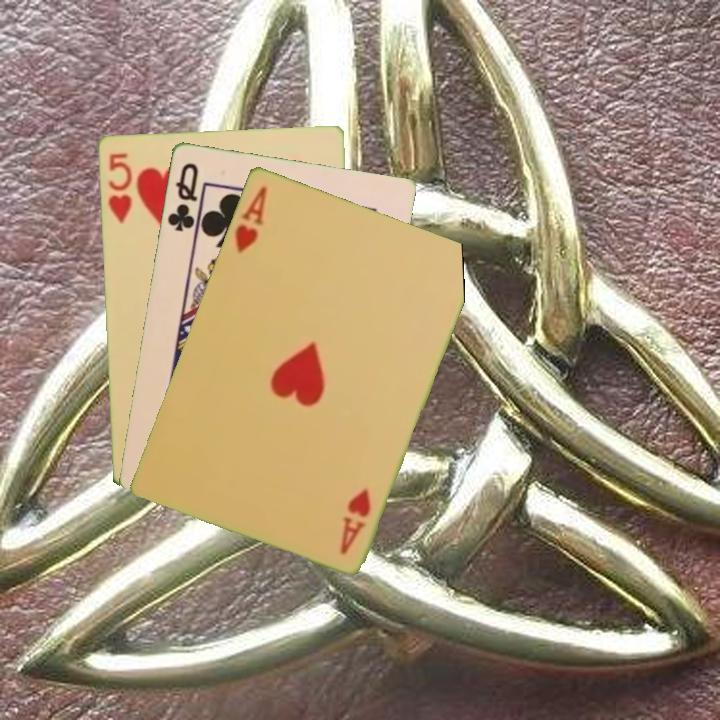5h: (104, 149, 135, 226)
Ah: (230, 182, 270, 256), (336, 483, 374, 557)
Qc: (163, 159, 201, 234)
